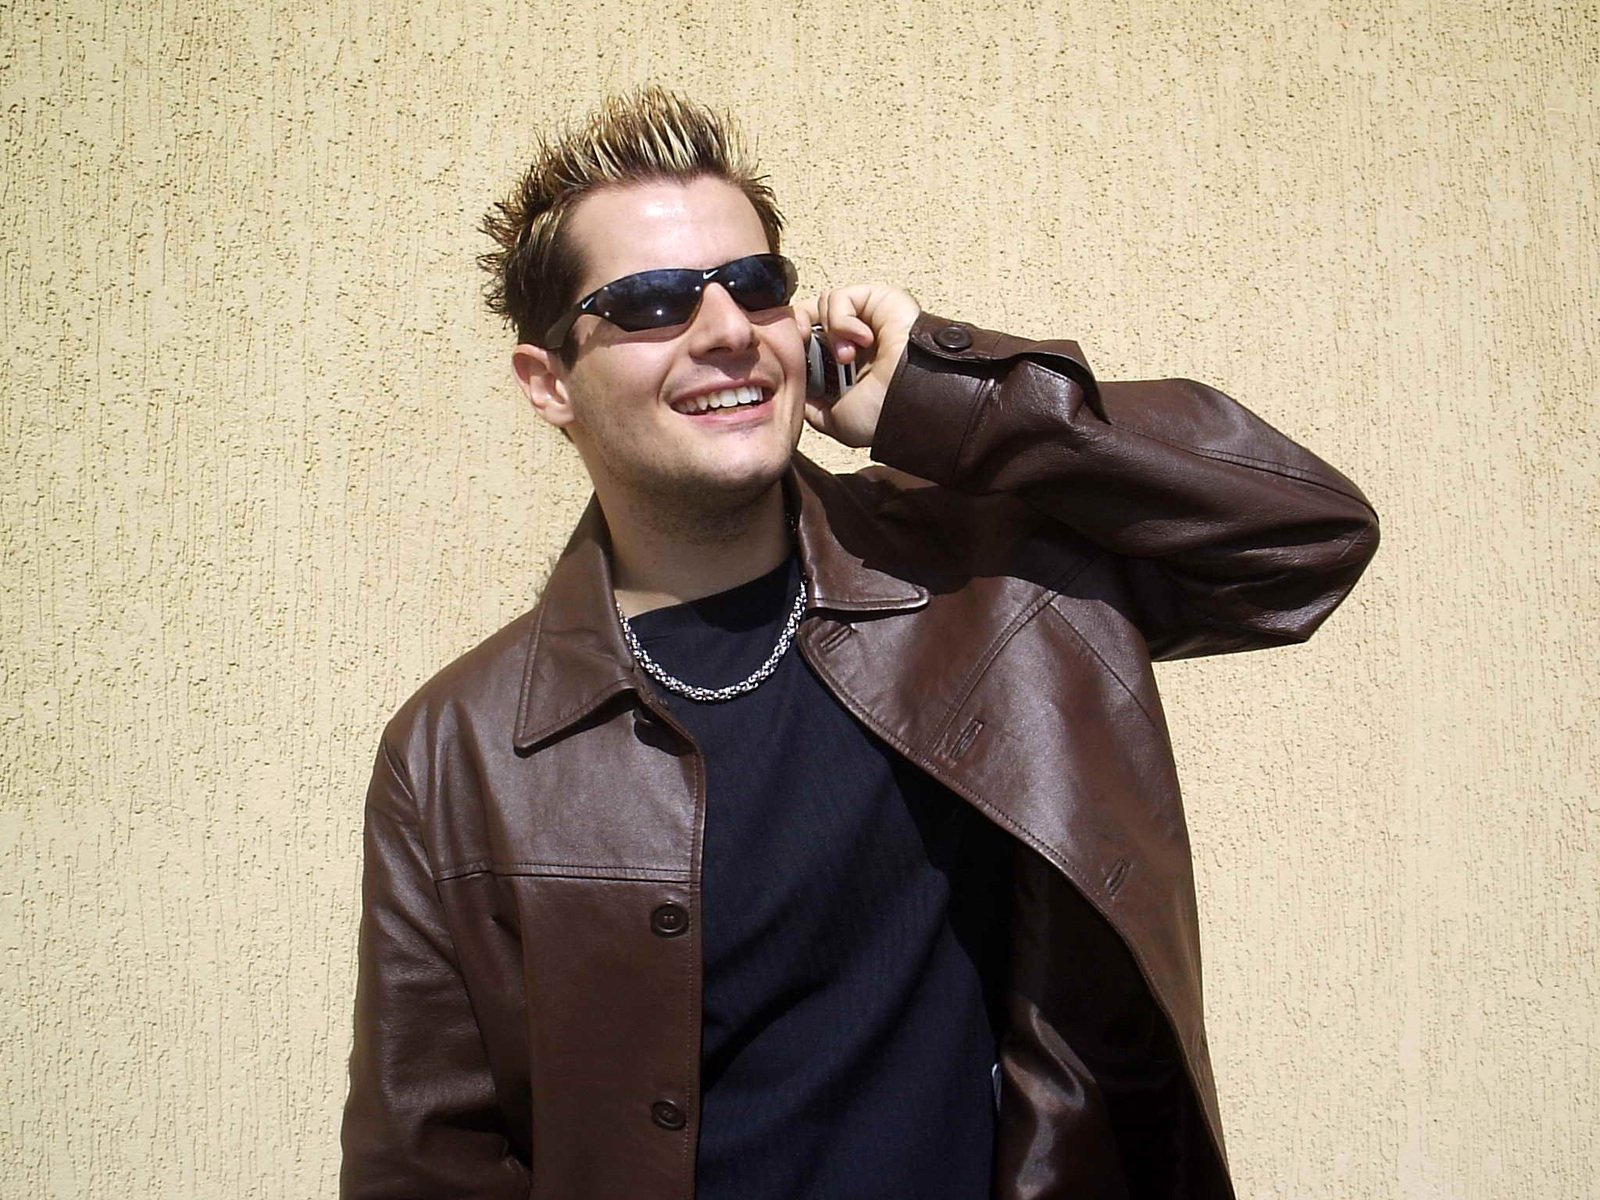talk: (596, 236, 911, 508)
